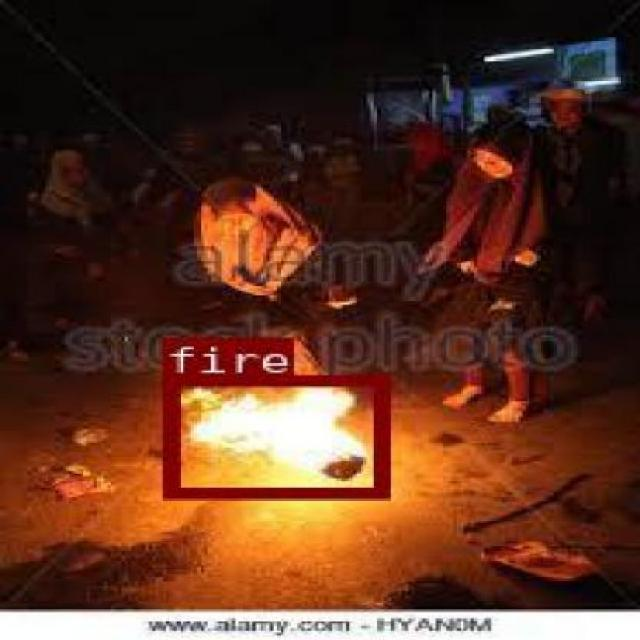fire: (160, 373, 386, 496)
